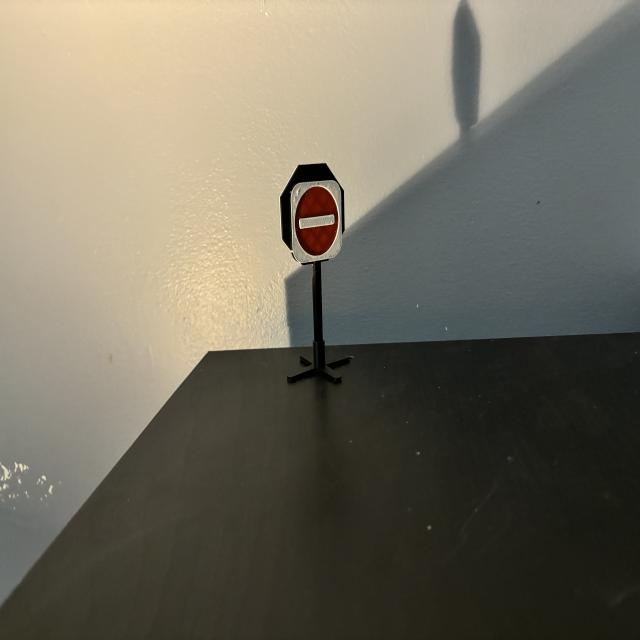sign_noentry: (292, 182, 342, 264)
